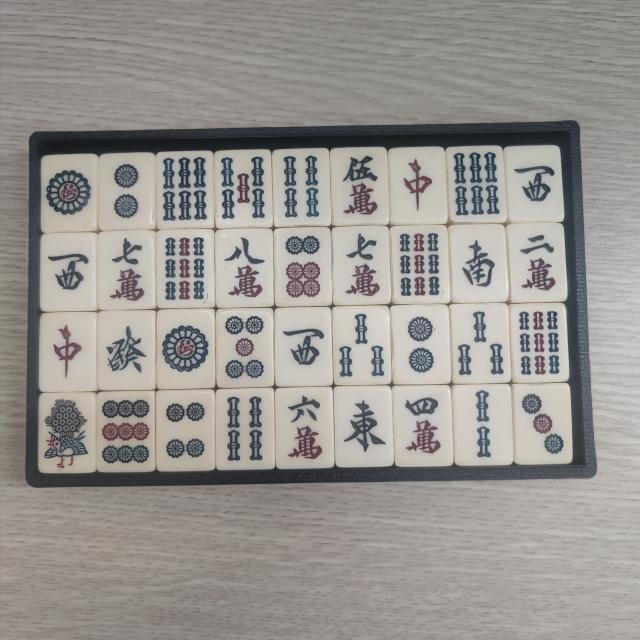hdg: (104, 317, 152, 386)
hdr: (396, 151, 442, 219), (45, 318, 89, 388)
hwe: (339, 391, 388, 463)
hws: (456, 229, 504, 298)
hww: (510, 149, 560, 216), (280, 314, 328, 382), (45, 238, 92, 306)
sb1: (43, 397, 93, 471)
sb2: (460, 388, 508, 462)
sb3: (337, 310, 389, 382), (456, 306, 507, 379)
sb4: (278, 151, 326, 222), (222, 392, 268, 466)
sb5: (218, 152, 268, 222)
sb6: (452, 150, 504, 219), (160, 156, 210, 227)
sb9: (516, 308, 562, 379), (396, 232, 444, 300), (162, 236, 209, 304)
sc2: (516, 231, 563, 299)
sc4: (401, 393, 448, 463)
sc5: (336, 151, 383, 220)
sc6: (282, 393, 330, 465)
sc7: (338, 230, 384, 300), (105, 234, 151, 304)
sc8: (218, 232, 268, 300)
sd1: (160, 314, 211, 386), (45, 158, 94, 226)
sd2: (398, 310, 445, 382), (104, 157, 150, 225)
sd3: (521, 388, 570, 458)
sd4: (163, 396, 212, 466)
sd5: (219, 313, 268, 383)
sd6: (280, 234, 328, 302)
sd9: (100, 394, 153, 466)
